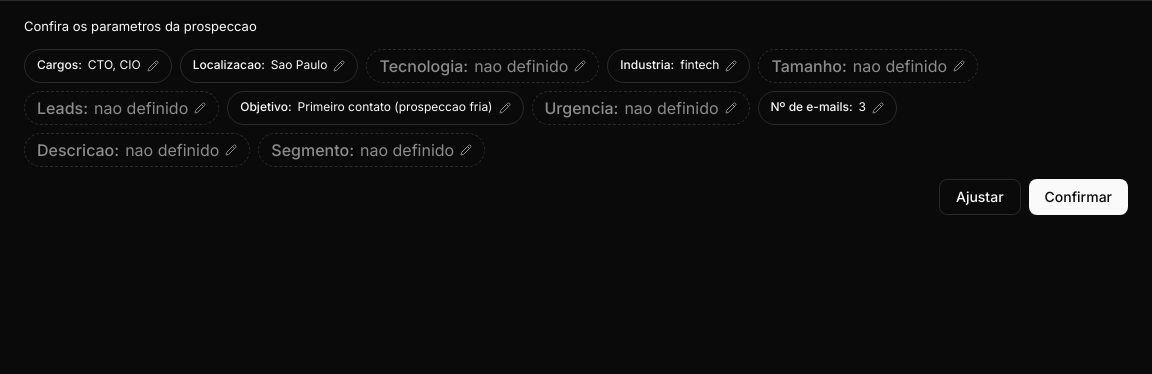
Test: AgentConfirmationCard › variante briefing › editar um chip: abre o editor com o valor atual, salva e fecha
Click the button with test id "briefing-chip-jobTitles". click: (98, 66)
box: left=24, top=48, right=172, bottom=82
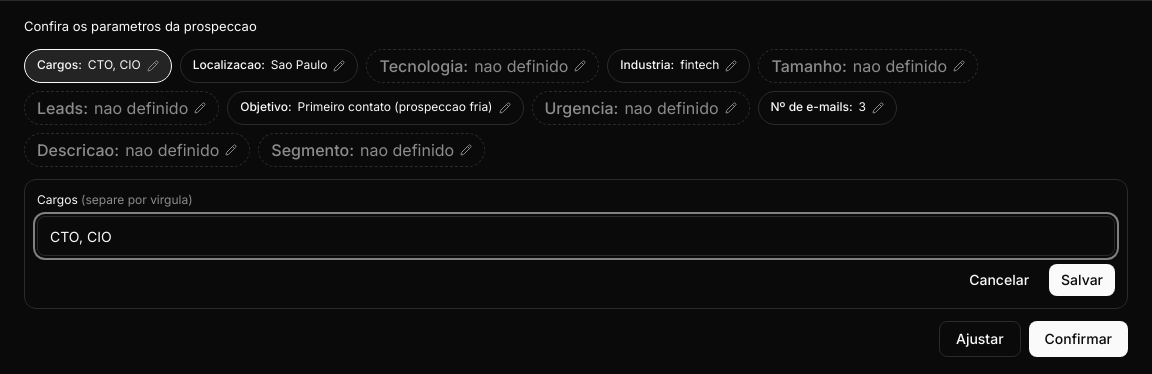
Expected: the field with test id "chip-input-jobTitles" holds "CTO, CIO"
Replace the text in the field with test id "chip-input-jobTitles" with "CFO". click: (576, 236)
box: left=37, top=216, right=1115, bottom=256
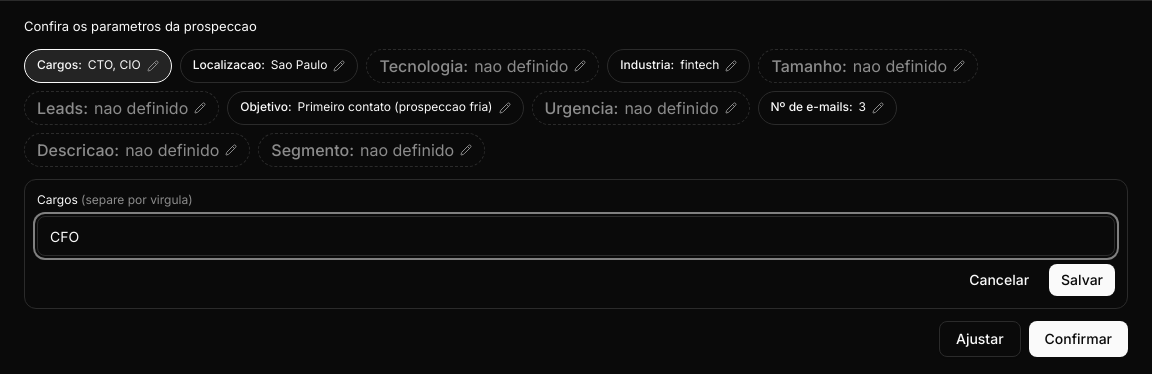
Click the button with test id "chip-save-jobTitles". click: (1082, 280)
box: left=1049, top=264, right=1115, bottom=296
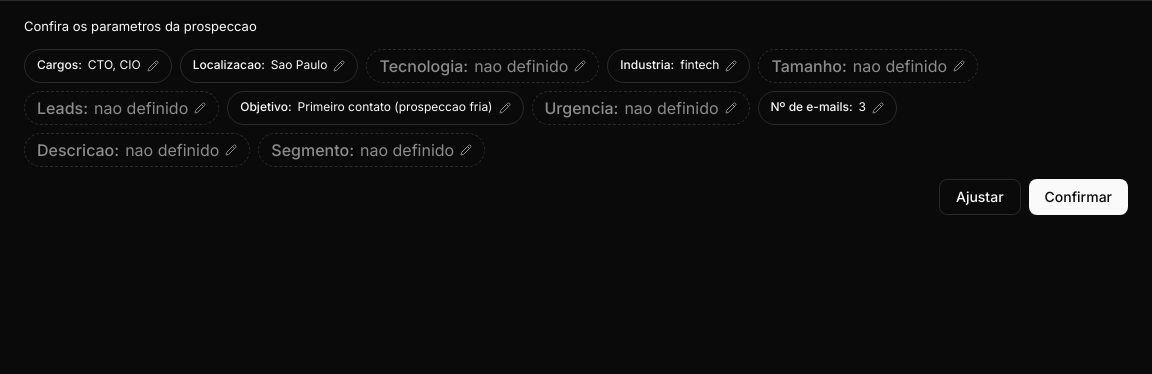
Expected: the element with test id "chip-editor-jobTitles" is gone
